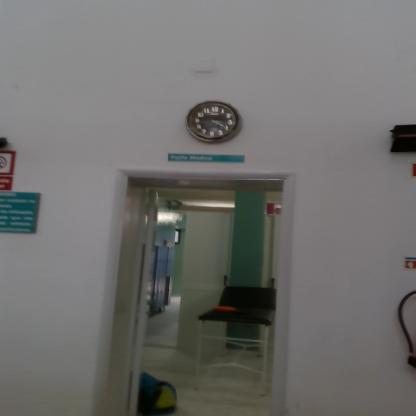open: (110, 155, 308, 414)
